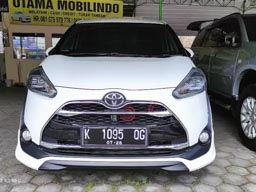plat: (82, 127, 147, 139)
